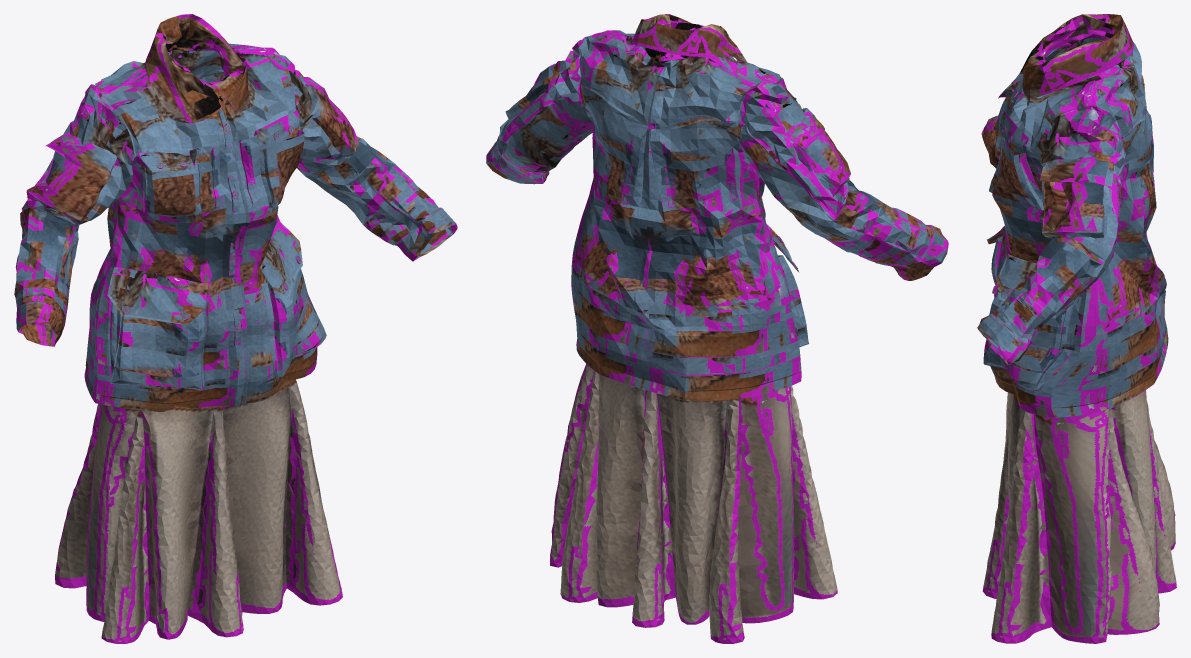
3 views of the same model, side by side, from view 1: azimuth 30°, elevation 25°; view 2: azimuth 150°, elevation 25°; view 3: azimuth 270°, elevation 25° (orthographic). The views are drawn at different scales.
Bounding box in the file's own units: 0.8233 × 1.02 × 0.3194.
Materials: 1 (1 with a texture image).
